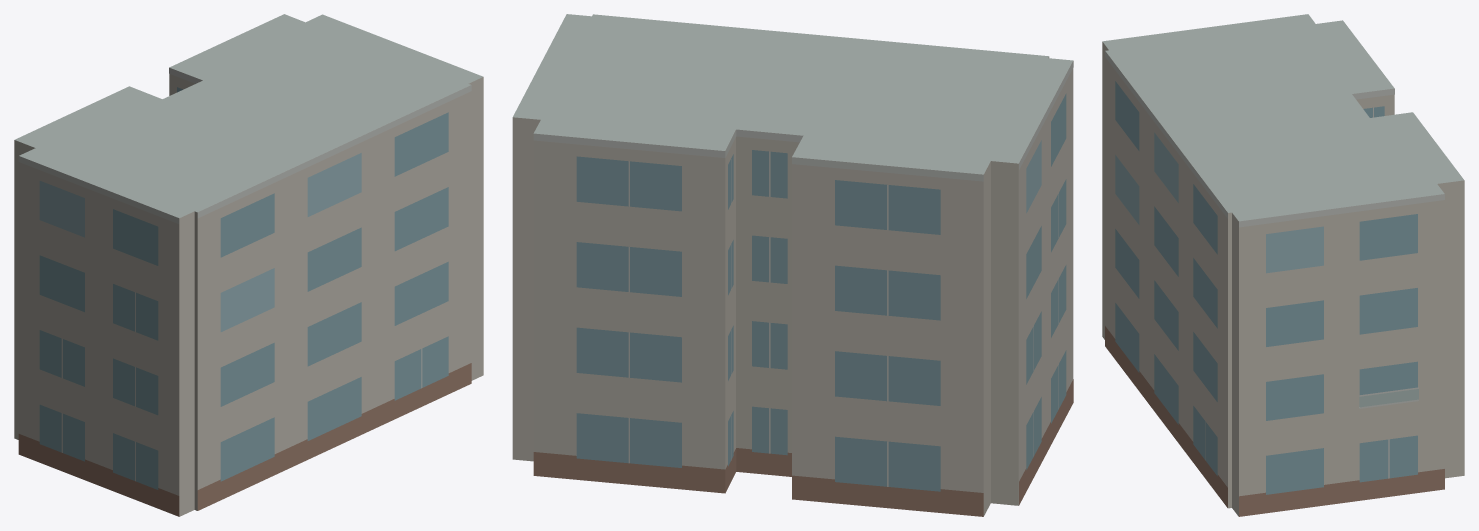
The model's file is survey-upis-32622390.glb.
3 views of the same model, side by side, from view 1: azimuth 30°, elevation 25°; view 2: azimuth 150°, elevation 25°; view 3: azimuth 270°, elevation 25° (orthographic). The views are drawn at different scales.
Parts seen in each view (by area): view 1: survey-upis-32622390.tmp; view 2: survey-upis-32622390.tmp; view 3: survey-upis-32622390.tmp.
Part boxes in pixels (bbox=[...]): survey-upis-32622390.tmp: bbox=[14, 14, 483, 516]; survey-upis-32622390.tmp: bbox=[512, 14, 1073, 516]; survey-upis-32622390.tmp: bbox=[1102, 14, 1464, 516].
Size of the model in its own units: 17.93 by 11.9 by 13.23.
